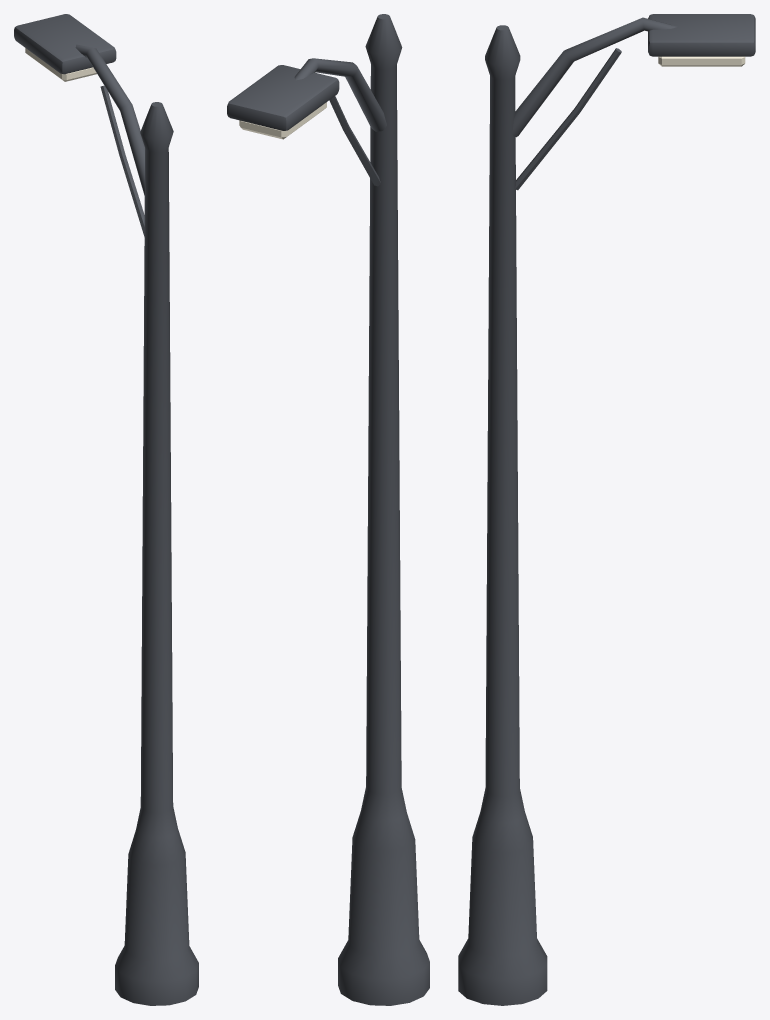
Rendered from Street_Lamp.fbx.
3 renders of one model, left to right at view 1: azimuth 30°, elevation 25°; view 2: azimuth 150°, elevation 25°; view 3: azimuth 270°, elevation 25°, orthographic. The views are drawn at different scales.
Visible parts, largest first — view 1: Street_Lamp; view 2: Street_Lamp; view 3: Street_Lamp.
Part boxes in pixels (box(x1,y1,x2,y2)): Street_Lamp: box(14, 14, 198, 1005); Street_Lamp: box(227, 14, 429, 1005); Street_Lamp: box(458, 14, 755, 1005).
Bounding box in the file's own units: 0.44 × 5.15 × 1.43.
